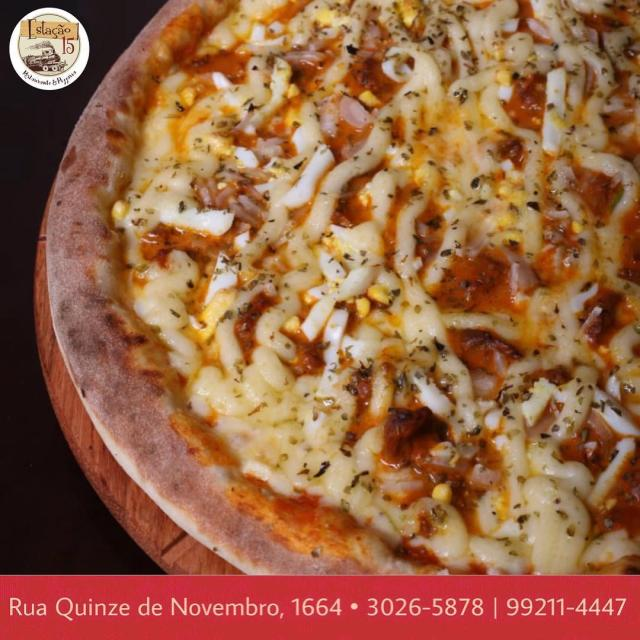pizza: (44, 0, 640, 574)
